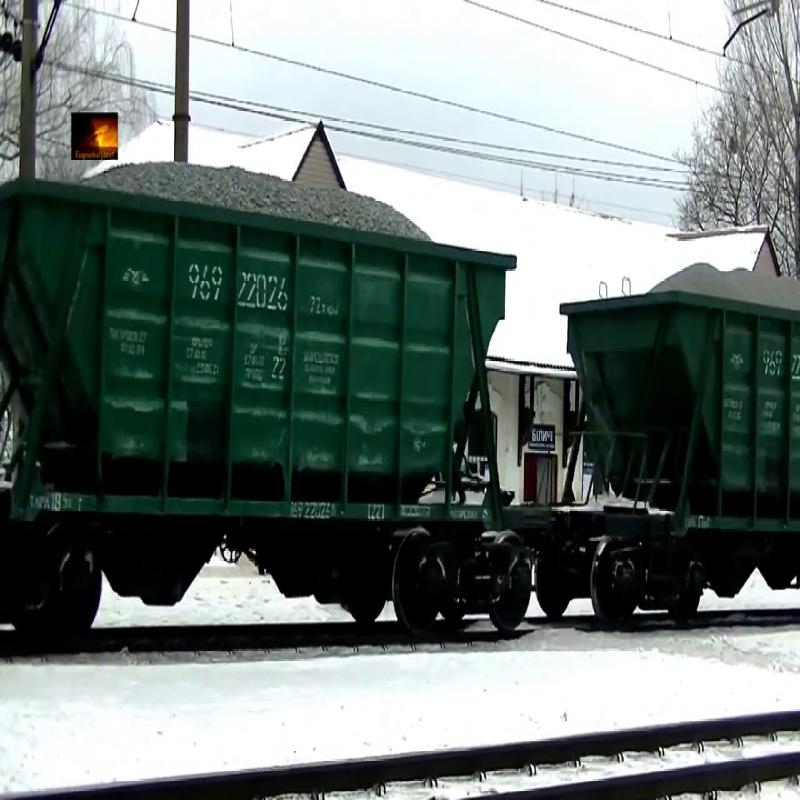train: (1, 166, 523, 617), (550, 264, 800, 647)
